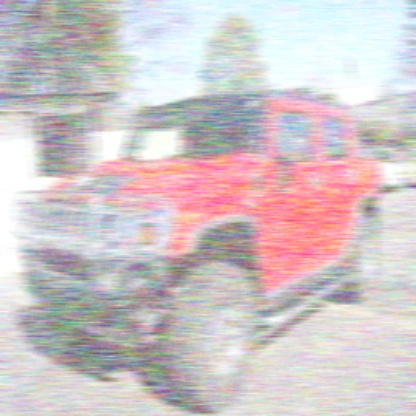Vehicle: (16, 94, 384, 414)
